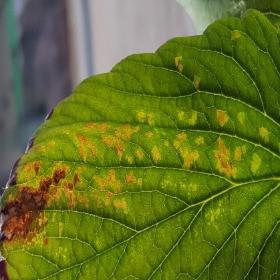Angular Leafspot: (0, 27, 276, 279)
